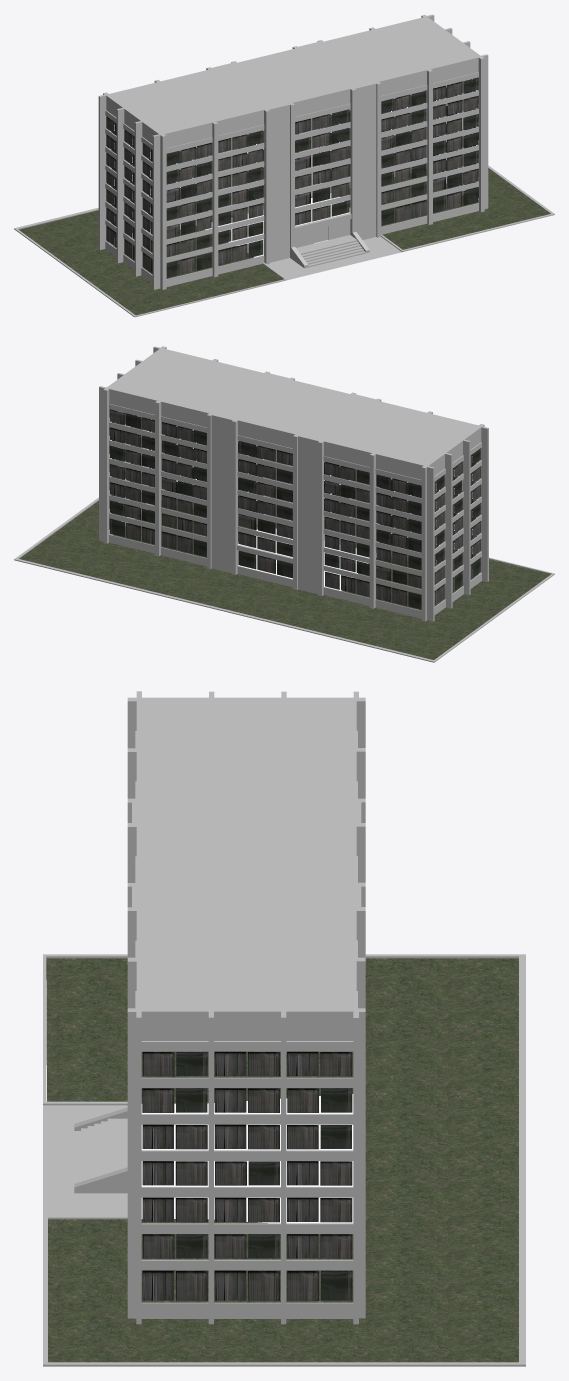
The picture shows the model from 3 angles, top to bottom: view 1: azimuth 30°, elevation 25°; view 2: azimuth 150°, elevation 25°; view 3: azimuth 270°, elevation 25°; orthographic projection. The views are drawn at different scales.
Parts seen in each view (by area): view 1: BB-027; view 2: BB-027; view 3: BB-027.
Boxes of the visible parts, x1,y1,x2,y2 form: BB-027: (14, 14, 554, 317); BB-027: (14, 346, 554, 662); BB-027: (43, 691, 525, 1366).
Size of what is drawn, in the model's own units: 72.4 by 25.24 by 36.
